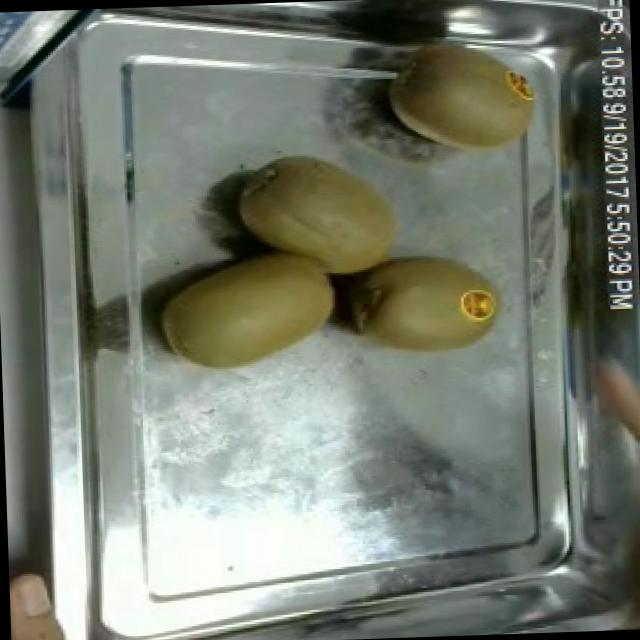Fruit: (148, 237, 347, 382), (227, 143, 413, 291), (374, 26, 550, 170), (335, 242, 510, 372), (8, 563, 76, 640)
